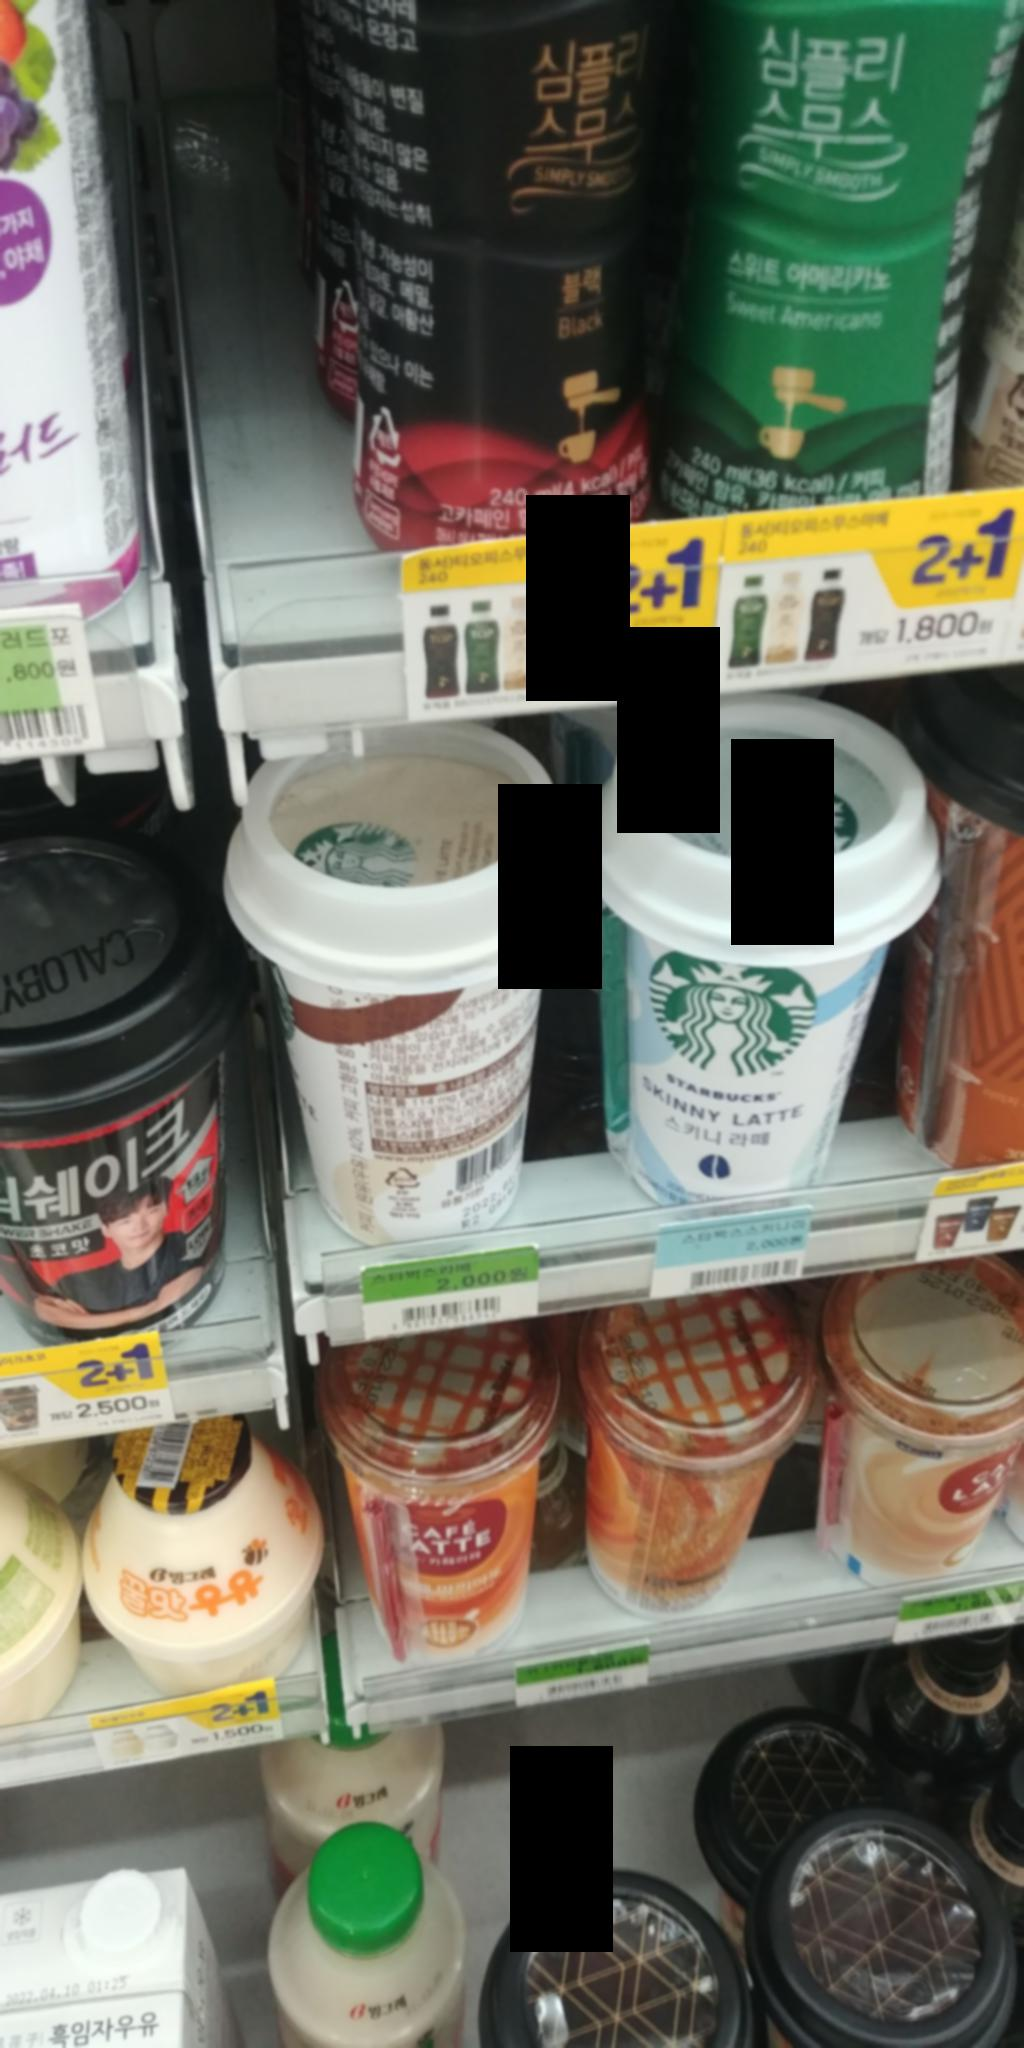starbucks_cafelatte: (197, 701, 605, 1250)
